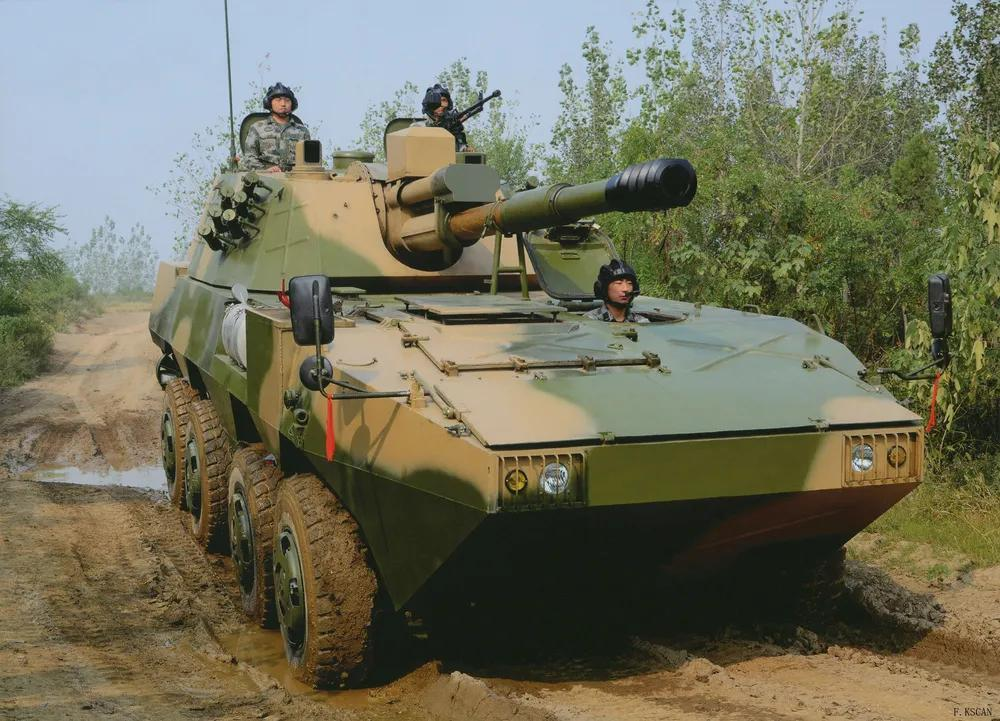MIL_IFV: (139, 122, 949, 687)
